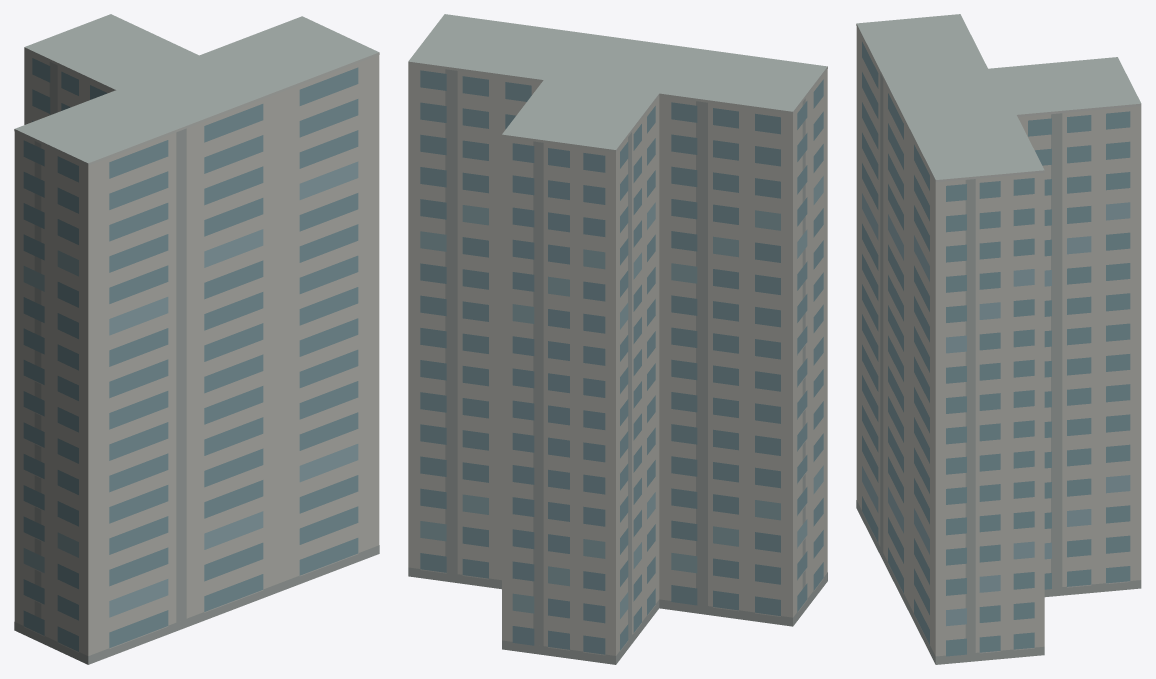
File: residential-5a82dbd8-104b-4603-8b29-7c013016c672.glb
3 renders of one model, left to right at view 1: azimuth 30°, elevation 25°; view 2: azimuth 150°, elevation 25°; view 3: azimuth 270°, elevation 25°, orthographic. The views are drawn at different scales.
Parts seen in each view (by area): view 1: residential-5a82dbd8-104b-4603-8b29-7c013016c672.tmp; view 2: residential-5a82dbd8-104b-4603-8b29-7c013016c672.tmp; view 3: residential-5a82dbd8-104b-4603-8b29-7c013016c672.tmp.
Part boxes in pixels (x1,y1,x2,y2): residential-5a82dbd8-104b-4603-8b29-7c013016c672.tmp: [14, 14, 379, 664]; residential-5a82dbd8-104b-4603-8b29-7c013016c672.tmp: [408, 14, 827, 664]; residential-5a82dbd8-104b-4603-8b29-7c013016c672.tmp: [856, 14, 1141, 664].
Bounding box in the file's own units: 35.28 × 48 × 25.58.
